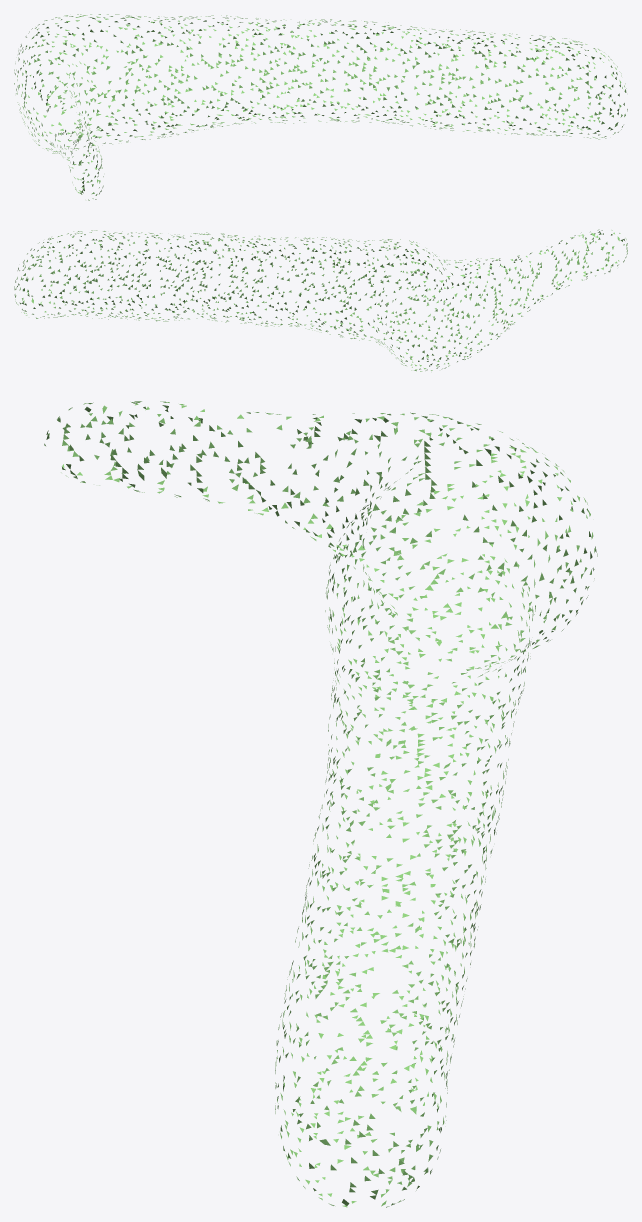
File: morph_015.glb
The picture shows the model from 3 angles, top to bottom: view 1: azimuth 30°, elevation 25°; view 2: azimuth 150°, elevation 25°; view 3: azimuth 270°, elevation 25°; orthographic projection. The views are drawn at different scales.
Size of the model in its own units: 124 by 39.55 by 55.99.
